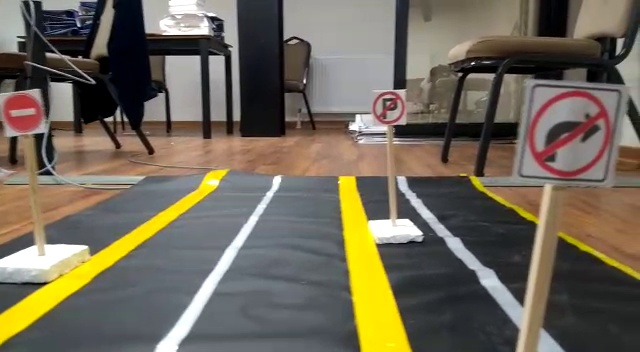girisi_olmayan_yol: (5, 93, 42, 132)
park_yapilmaz: (370, 91, 407, 123)
saga_donulmez: (530, 84, 608, 183)
